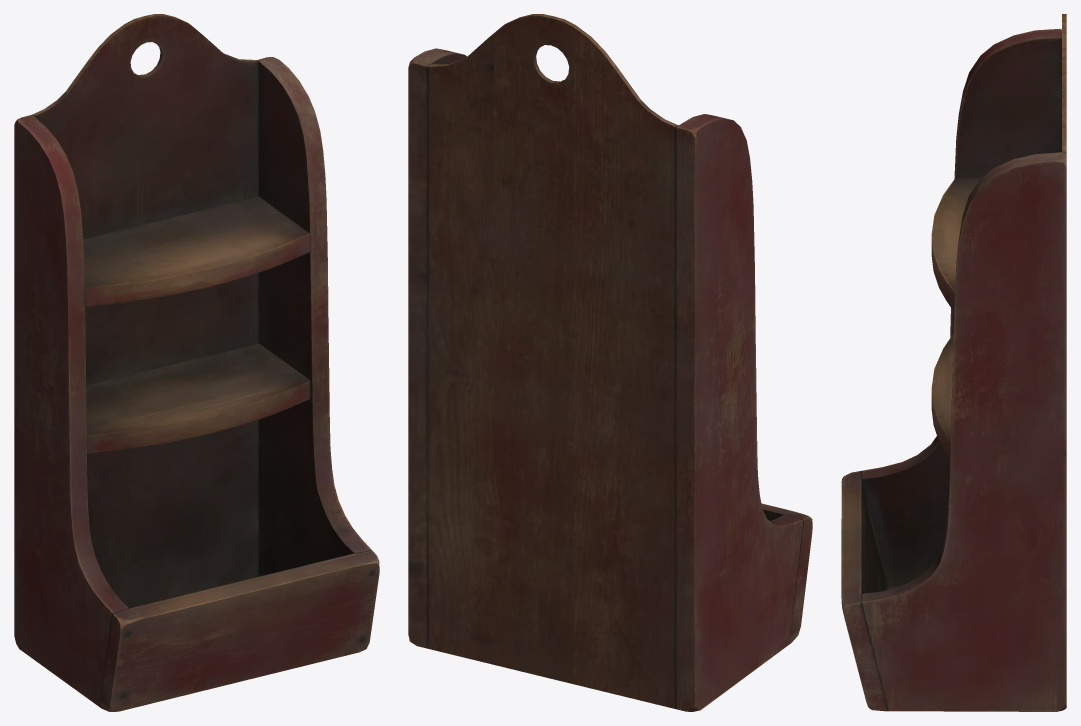
The picture shows the model from 3 angles, left to right: view 1: azimuth 30°, elevation 25°; view 2: azimuth 150°, elevation 25°; view 3: azimuth 270°, elevation 25°; orthographic projection. The views are drawn at different scales.
Parts seen in each view (by area): view 1: painted_wooden_shelves; view 2: painted_wooden_shelves; view 3: painted_wooden_shelves.
Part boxes in pixels (left/top/right/bottom): painted_wooden_shelves: left=14, top=14, right=379, bottom=711; painted_wooden_shelves: left=408, top=14, right=812, bottom=711; painted_wooden_shelves: left=841, top=14, right=1066, bottom=711.
Bounding box in the file's own units: 0.5111 × 1.13 × 0.3671.
Materials: 1 (1 with a texture image).
